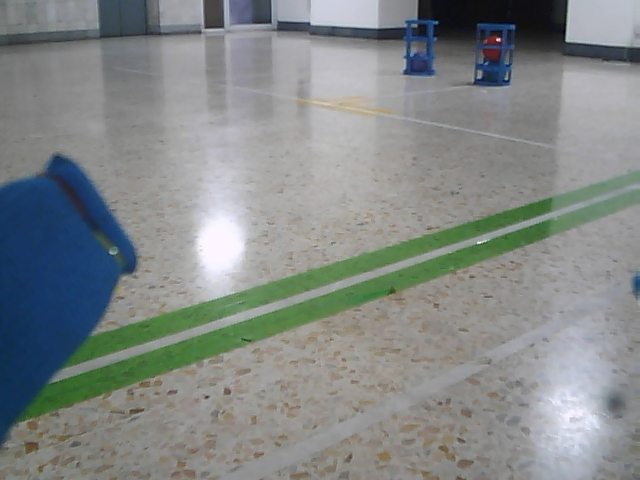Blue ball: (482, 60, 506, 83)
Cyro: (472, 21, 516, 87), (401, 18, 440, 77)
Purple ball: (408, 51, 431, 74)
Red ball: (482, 34, 507, 59)
